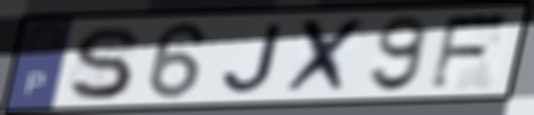6: (145, 20, 210, 102)
9: (368, 13, 432, 95)
F: (425, 10, 514, 94)
J: (221, 21, 287, 95)
S: (66, 23, 141, 103)
X: (278, 15, 370, 98)
